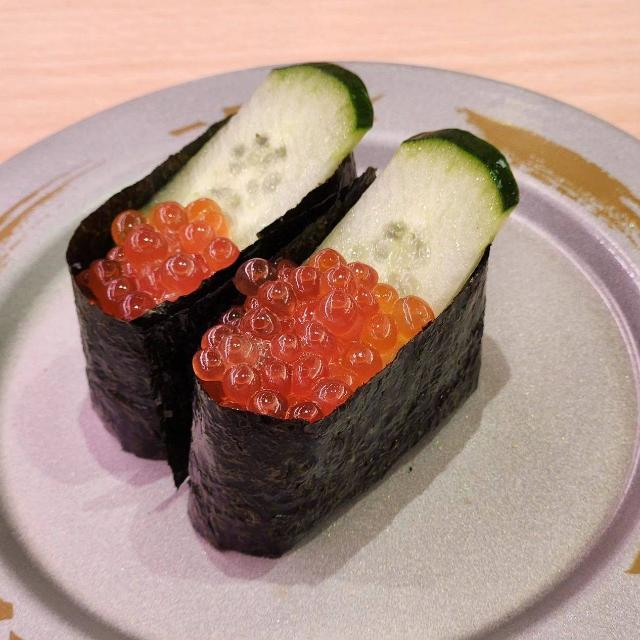janwhite: (10, 91, 640, 640)
